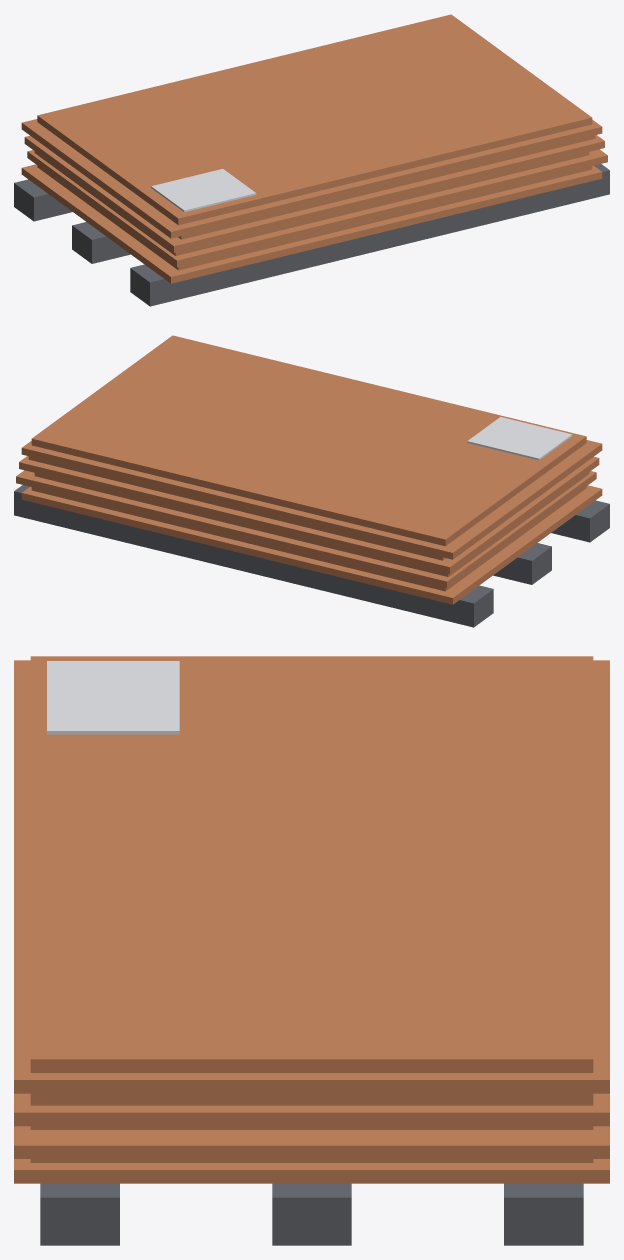
Rendered from shipyard-and-dry-dock-shipyard-and-dry-dock-hull-plate-6bff0d48__37928.glb.
3 renders of one model, top to bottom at view 1: azimuth 30°, elevation 25°; view 2: azimuth 150°, elevation 25°; view 3: azimuth 270°, elevation 25°, orthographic. The views are drawn at different scales.
Visible parts, largest first — view 1: shipyard-and-dry-dock-hull-plate-stack; view 2: shipyard-and-dry-dock-hull-plate-stack; view 3: shipyard-and-dry-dock-hull-plate-stack.
Boxes of the visible parts, bbox=[...] form: shipyard-and-dry-dock-hull-plate-stack: bbox=[14, 14, 609, 306]; shipyard-and-dry-dock-hull-plate-stack: bbox=[14, 335, 609, 627]; shipyard-and-dry-dock-hull-plate-stack: bbox=[14, 656, 609, 1245].
Size of the model in its own units: 3.2 by 0.5721 by 1.8.
